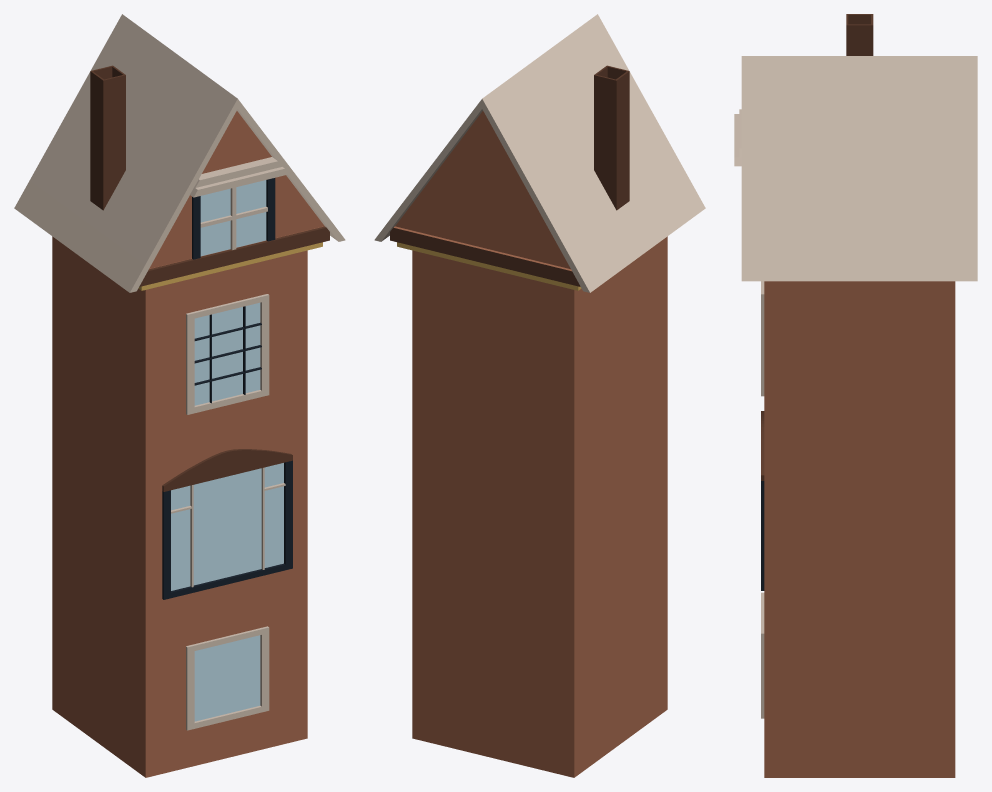
Rendered from House1Level1.fbx.
3 renders of one model, left to right at view 1: azimuth 30°, elevation 25°; view 2: azimuth 150°, elevation 25°; view 3: azimuth 270°, elevation 25°, orthographic. The views are drawn at different scales.
Visible parts, largest first — view 1: House1Lvl1.001; view 2: House1Lvl1.001; view 3: House1Lvl1.001.
Part boxes in pixels (x1,y1,x2,y2): House1Lvl1.001: [14, 14, 345, 777]; House1Lvl1.001: [374, 14, 705, 777]; House1Lvl1.001: [734, 14, 977, 777].
Bounding box in the file's own units: 59.34 × 175 × 56.77.
